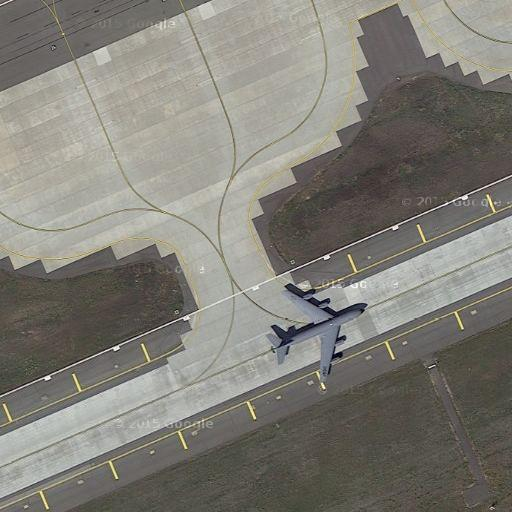KC-135: (262, 285, 367, 385)
